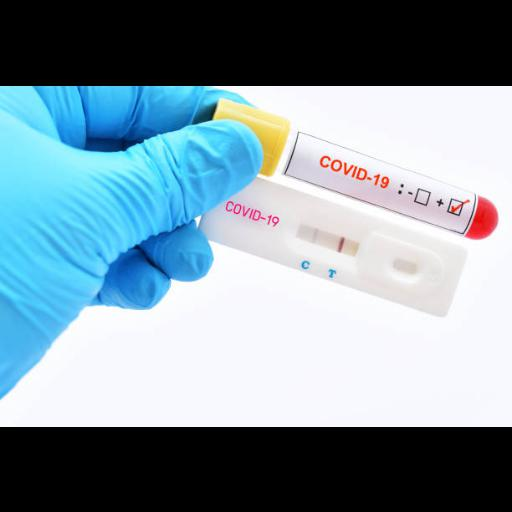Pos: (195, 164, 468, 318)
